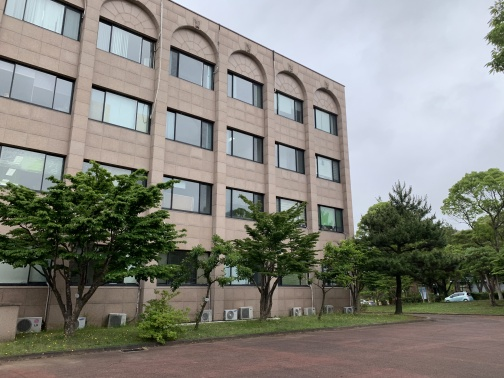Natural Science2: (3, 1, 355, 325)
